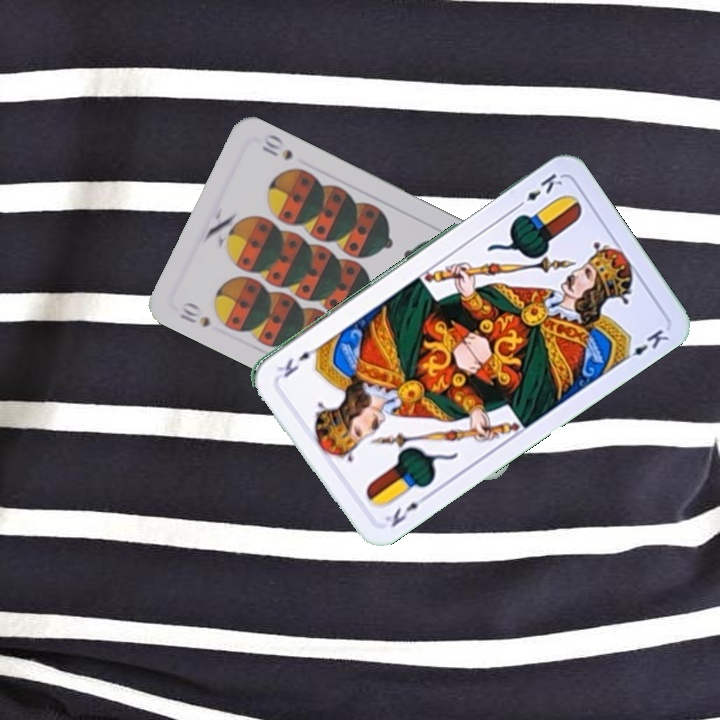EK: (511, 169, 565, 212), (376, 490, 432, 531)
S10: (175, 298, 213, 330)
